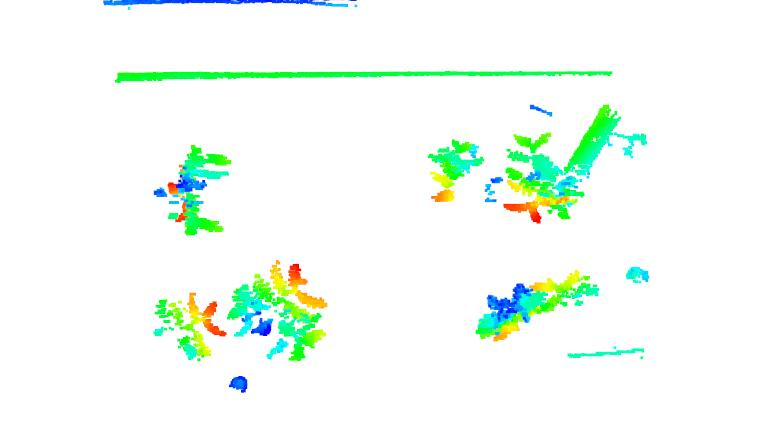chickpea: (228, 262, 327, 362), (153, 143, 232, 237), (496, 129, 574, 222), (150, 291, 226, 360), (474, 281, 545, 344), (425, 136, 485, 205), (532, 268, 602, 314)
